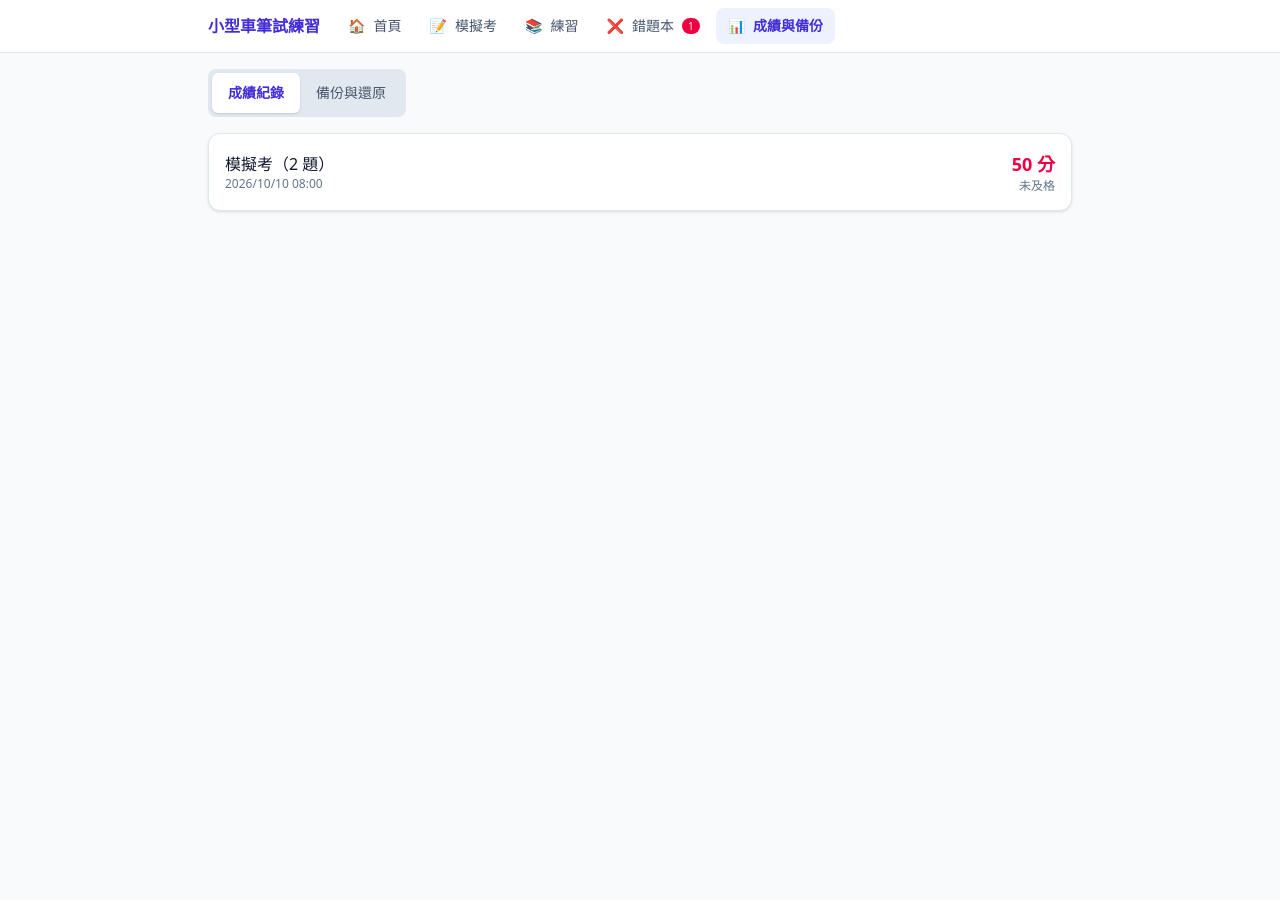
錯題本與歷史 › 歷史清單與詳情（作答內容與對錯）
Click the text "模擬考（2 題）".
click(280, 164)  # box [225,152,334,176]
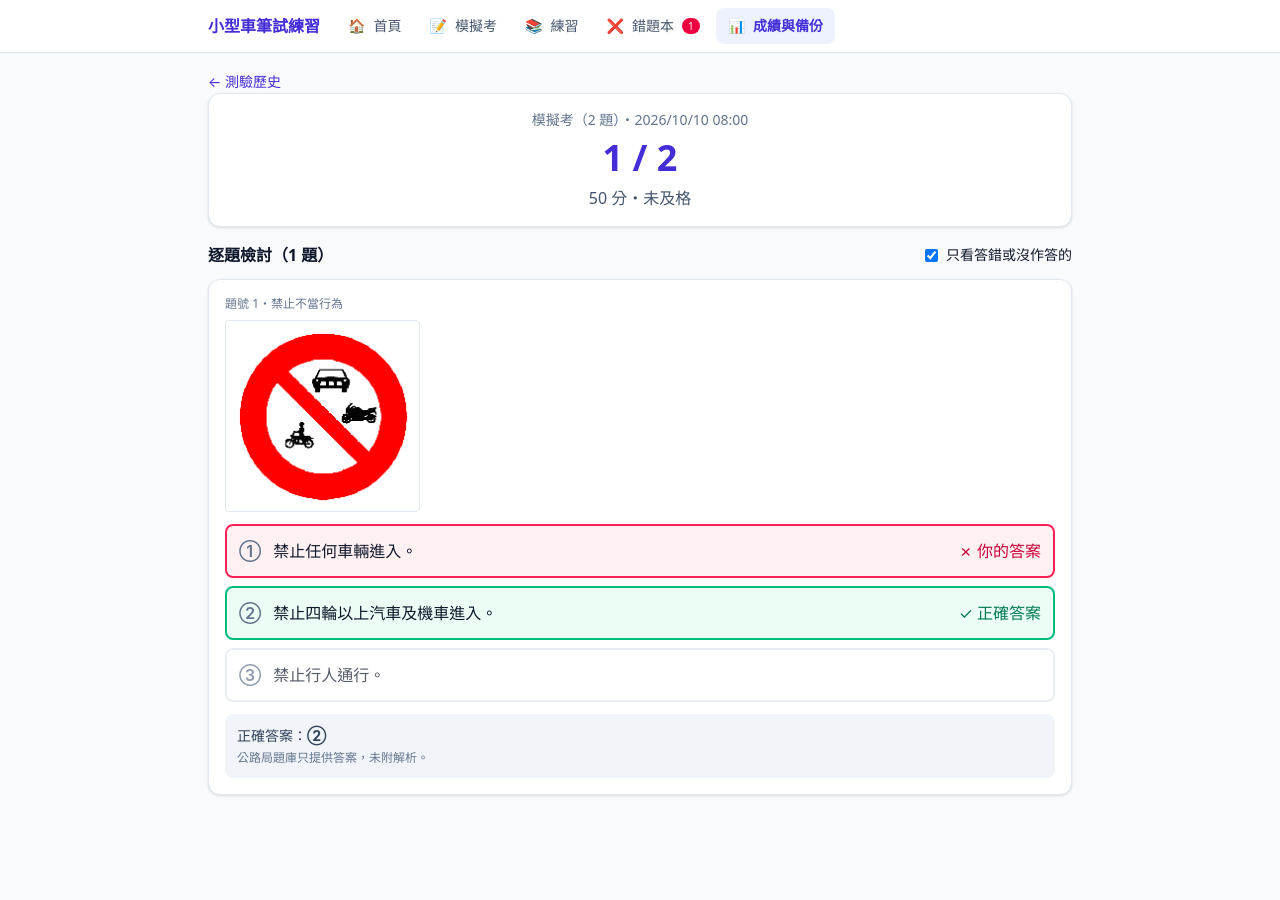
Expected: the text "1 / 2" is shown, [603,133,677,182]
Expected: the text "50 分・未及格" is shown, [589,187,691,209]
Expected: the text "✗ 你的答案" is shown, [959,538,1041,564]
